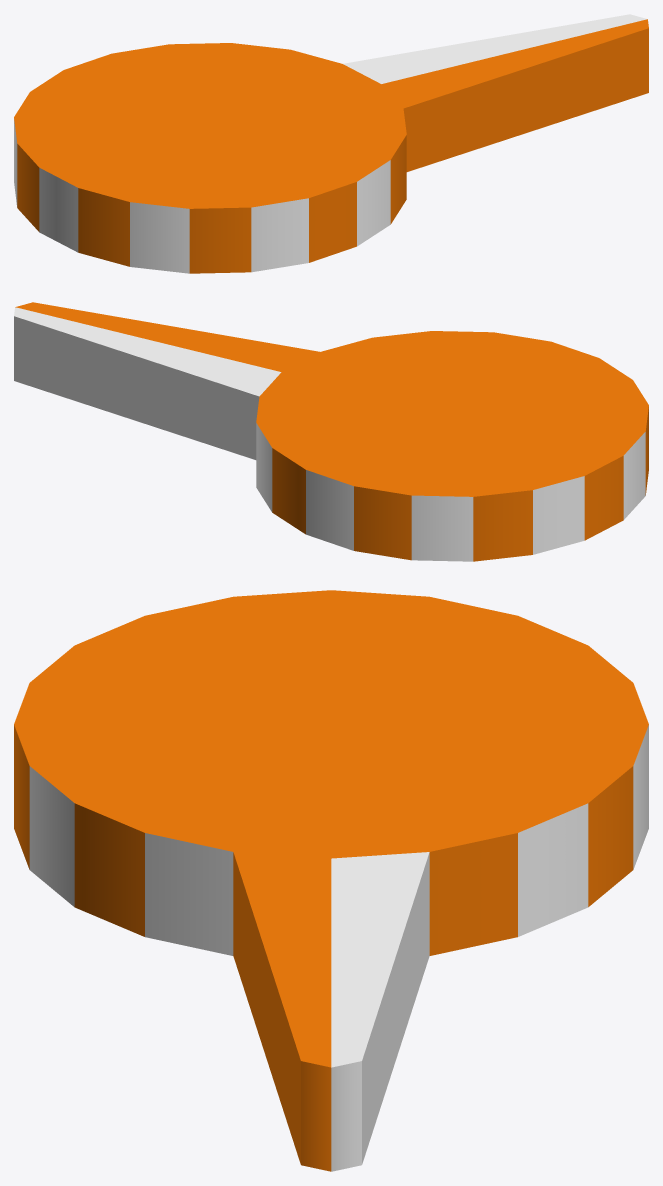
Rendered from RoundBarrierASpinging.fbx.
3 views of the same model, one above another, from view 1: azimuth 30°, elevation 25°; view 2: azimuth 150°, elevation 25°; view 3: azimuth 270°, elevation 25° (orthographic). The views are drawn at different scales.
Visible parts, largest first — view 1: RoundBarrierASpinging; view 2: RoundBarrierASpinging; view 3: RoundBarrierASpinging.
Boxes of the visible parts, left/top/right/bottom form: RoundBarrierASpinging: left=14, top=14, right=648, bottom=273; RoundBarrierASpinging: left=14, top=302, right=648, bottom=561; RoundBarrierASpinging: left=14, top=590, right=648, bottom=1171.
Size of the model in its own units: 432 by 43.95 by 243.
Materials: 1 (1 with a texture image).
